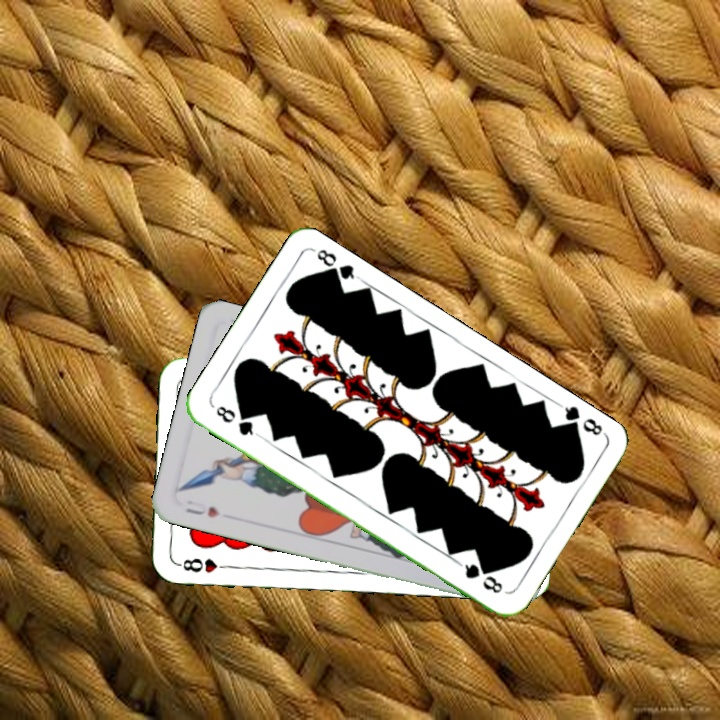G8: (555, 399, 608, 439), (211, 401, 262, 440)
H8: (174, 554, 233, 575)
HU: (182, 500, 223, 520)
